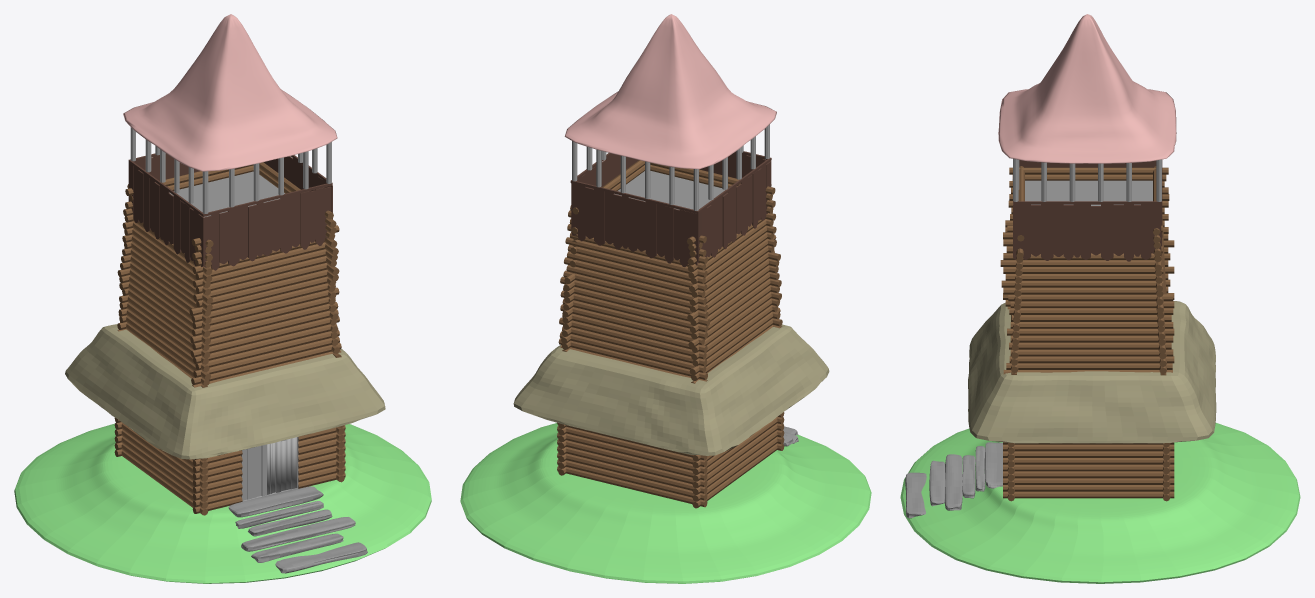
Rendered from Tower4.fbx.
3 views of the same model, side by side, from view 1: azimuth 30°, elevation 25°; view 2: azimuth 150°, elevation 25°; view 3: azimuth 270°, elevation 25° (orthographic).
Visible parts, largest first — view 1: Tower4; view 2: Tower4; view 3: Tower4.
Part boxes in pixels (x1,y1,x2,y2): Tower4: [14, 14, 431, 583]; Tower4: [460, 14, 871, 583]; Tower4: [900, 14, 1300, 583].
Size of the model in its own units: 13.52 by 17.87 by 13.15.
